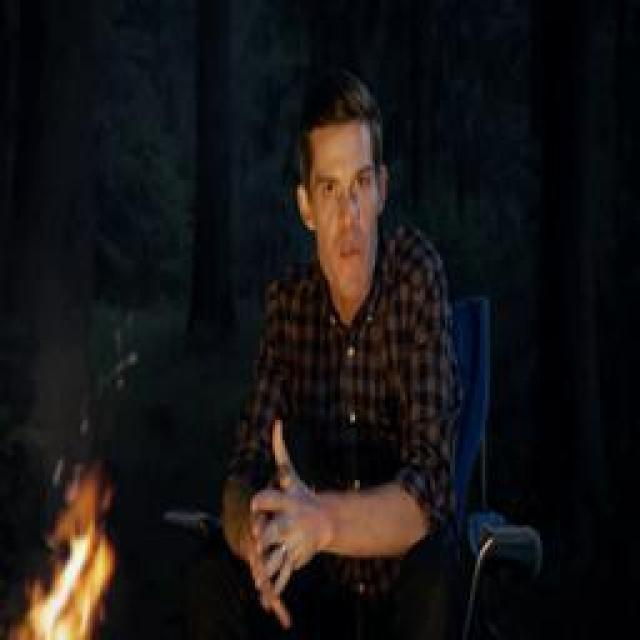Fire: (18, 480, 120, 640)
